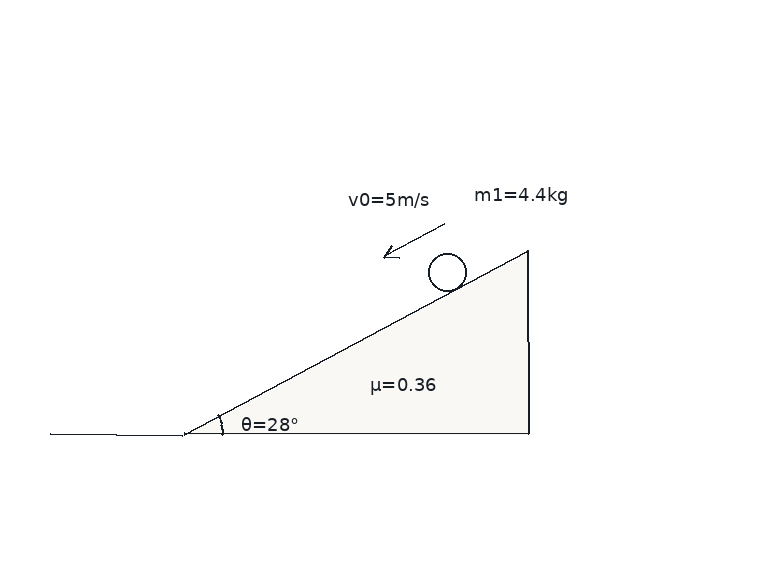ball: (426, 251, 468, 293)
ramp: (181, 249, 529, 436)
